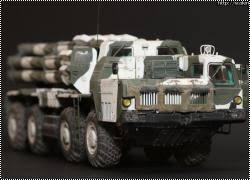MIL_SAM_TEL: (3, 34, 246, 169)
